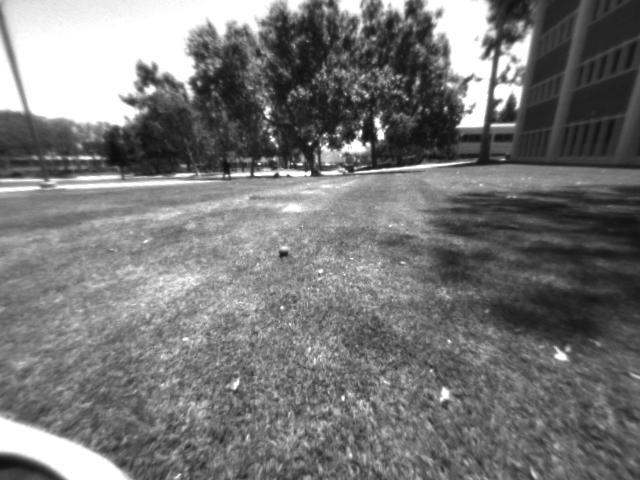dogtoy: (273, 239, 296, 264)
